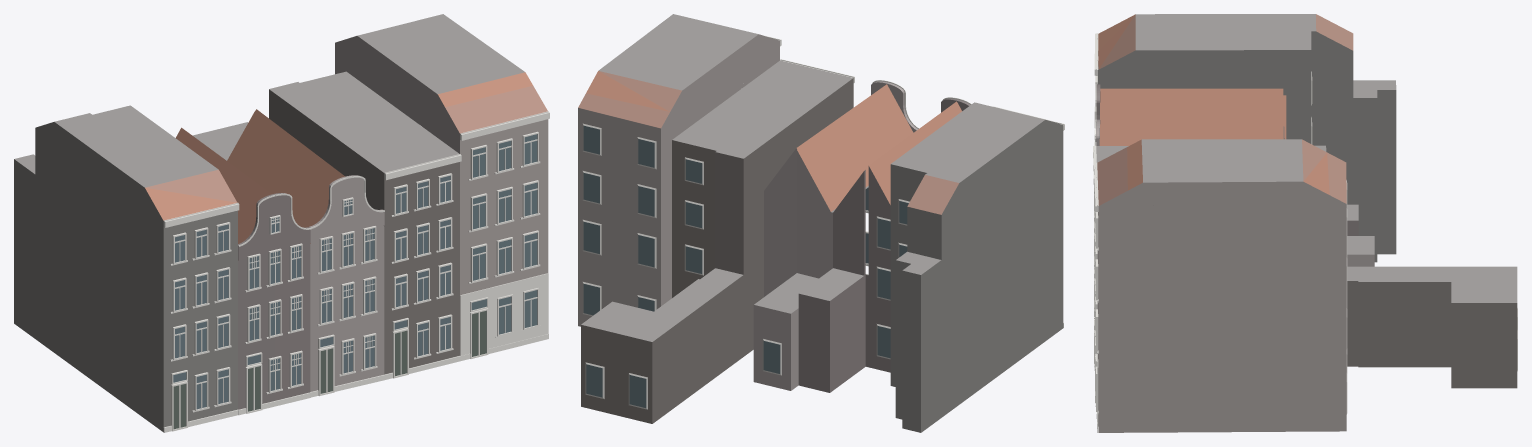
Rendered from chunk-face-egelantiersgracht-3-43-h2.glb.
The picture shows the model from 3 angles, left to right: view 1: azimuth 30°, elevation 25°; view 2: azimuth 150°, elevation 25°; view 3: azimuth 270°, elevation 25°; orthographic projection. The views are drawn at different scales.
Visible parts, largest first — view 1: face-egelantiersgracht-3-43-h2; view 2: face-egelantiersgracht-3-43-h2; view 3: face-egelantiersgracht-3-43-h2.
Part boxes in pixels (bbox=[...]): face-egelantiersgracht-3-43-h2: bbox=[14, 14, 549, 432]; face-egelantiersgracht-3-43-h2: bbox=[578, 14, 1064, 432]; face-egelantiersgracht-3-43-h2: bbox=[1093, 14, 1517, 432].
Bounding box in the file's own units: 23.7 × 14.69 × 22.63.
